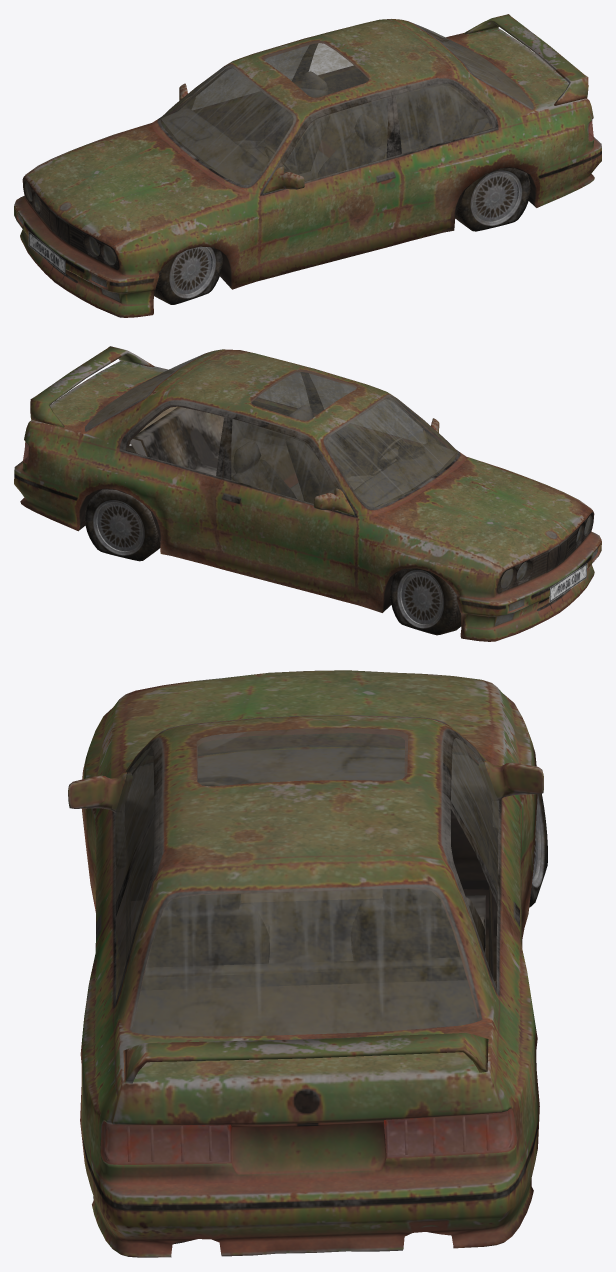
3 views of the same model, one above another, from view 1: azimuth 30°, elevation 25°; view 2: azimuth 150°, elevation 25°; view 3: azimuth 270°, elevation 25° (orthographic). The views are drawn at different scales.
Visible parts, largest first — view 1: Object_3, Object_2; view 2: Object_3, Object_2; view 3: Object_3, Object_2.
Part boxes in pixels (box(x1,y1,x2,y2)): Object_3: box(14, 19, 601, 316); Object_2: box(14, 14, 601, 317); Object_3: box(14, 349, 600, 641); Object_2: box(14, 346, 601, 641); Object_3: box(68, 670, 543, 1256); Object_2: box(68, 728, 547, 1257).
Bounding box in the file's own units: 4326 × 1295 × 1760.
1 material, 1 textured.
